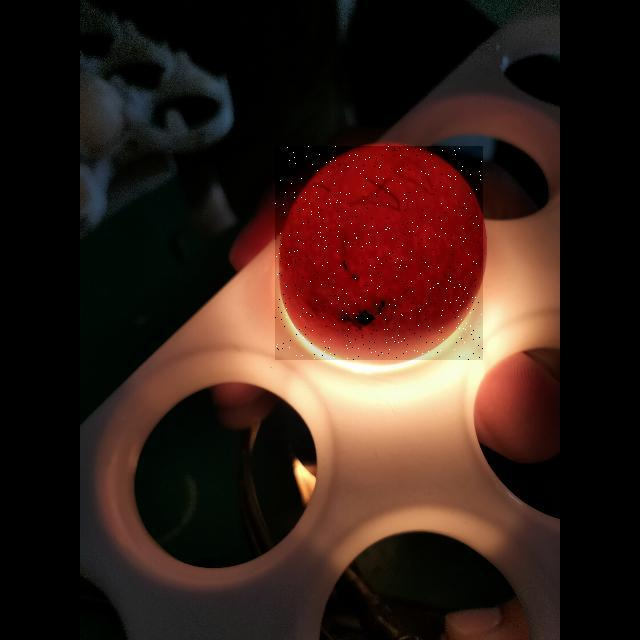Infertile: (275, 146, 483, 360)
